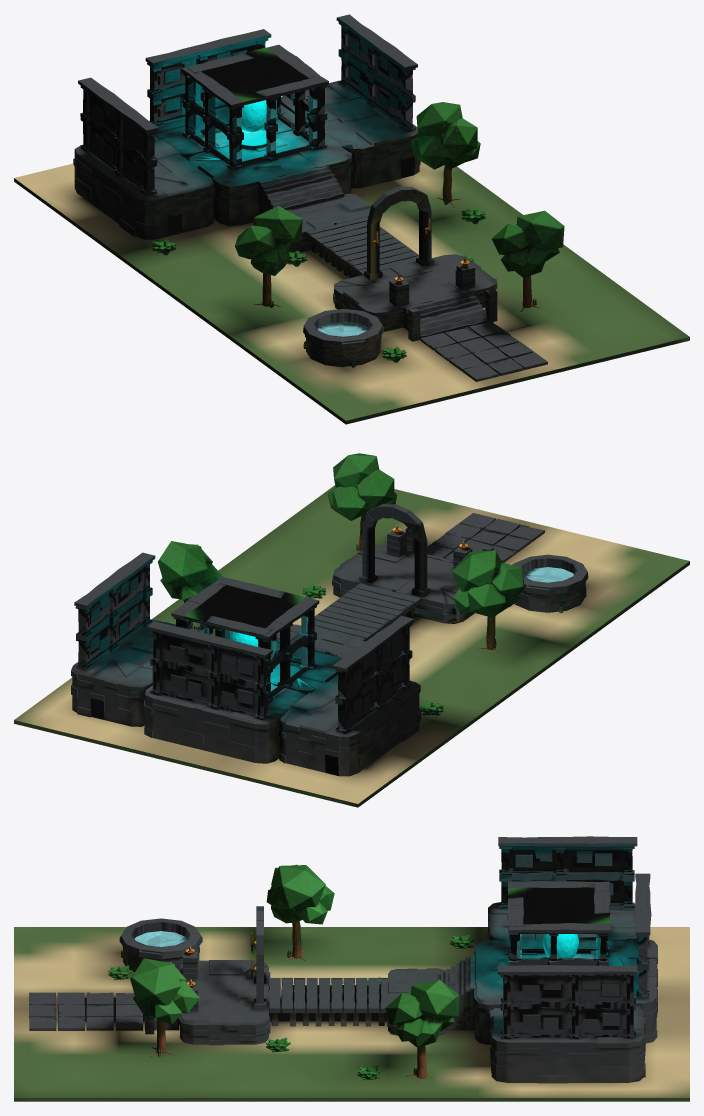
3 renders of one model, top to bottom at view 1: azimuth 30°, elevation 25°; view 2: azimuth 150°, elevation 25°; view 3: azimuth 270°, elevation 25°, orthographic.
Parts seen in each view (by area): view 1: temple-complex; view 2: temple-complex; view 3: temple-complex.
Boxes of the visible parts, x1=… form: temple-complex: x1=14, y1=14, x2=689, y2=424; temple-complex: x1=14, y1=453, x2=689, y2=807; temple-complex: x1=14, y1=836, x2=689, y2=1101.
Size of the model in its own units: 2993 by 925 by 5000.
Materials: 8 (8 with a texture image).
